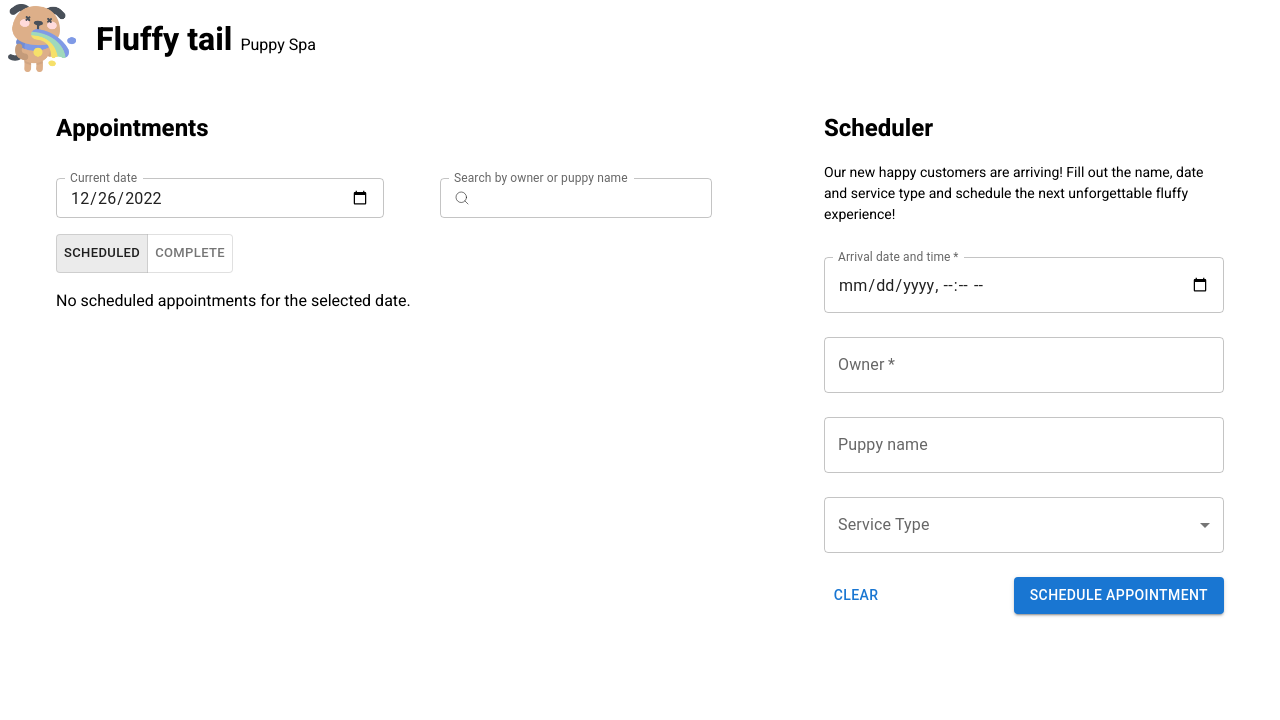
Test: successfully submit scheduled appointment
The image size is (1280, 720).
Type "2022-12-26T16:55" into the field with placeholder "Arrival date and time" at point(1024, 285), box [824,257,1224,313]
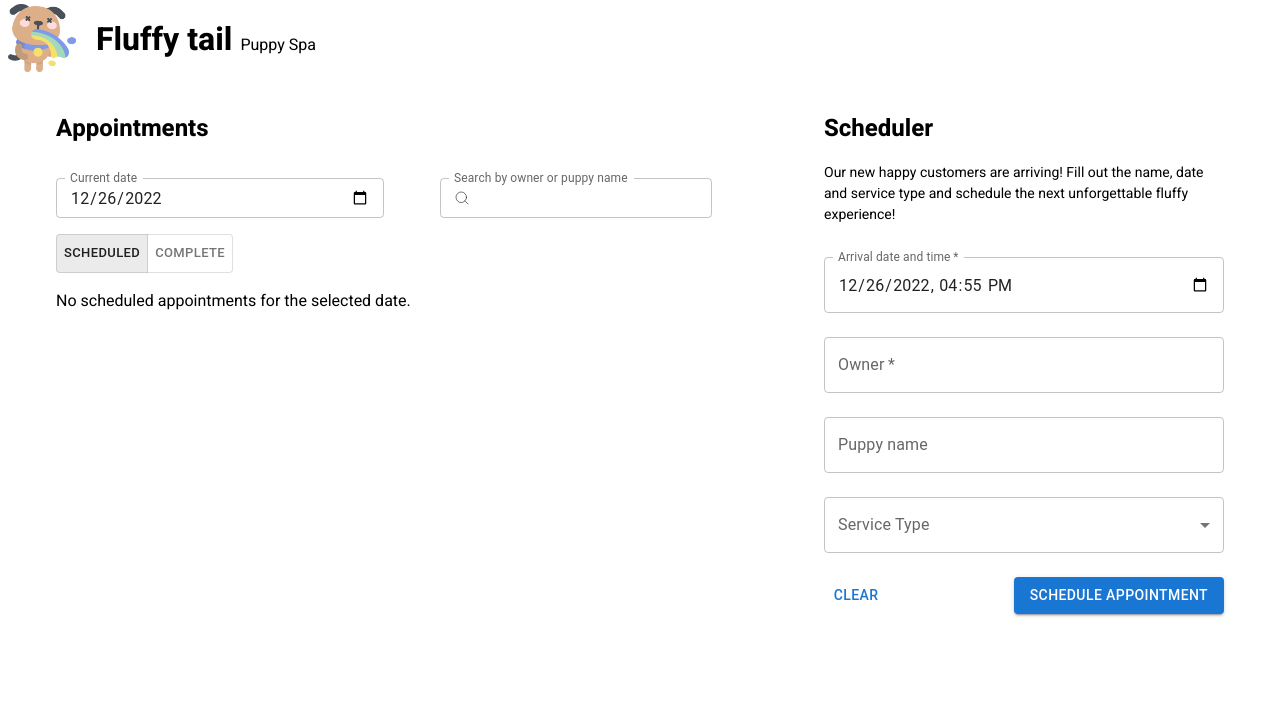
Type "Dusan" into the field with placeholder "Owner" at point(1024, 365), box [824,337,1224,393]
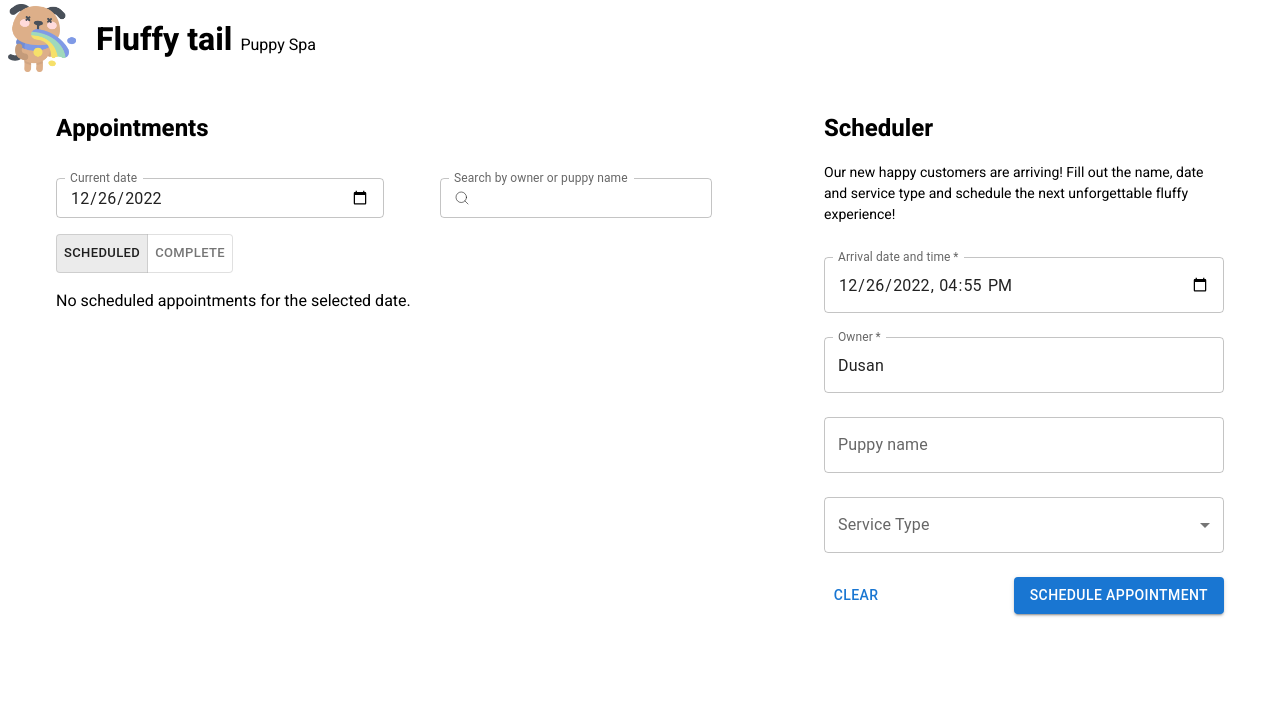
Click the button with test id "scheduler__submit-button" at point(1119, 595), box [1014,577,1224,614]
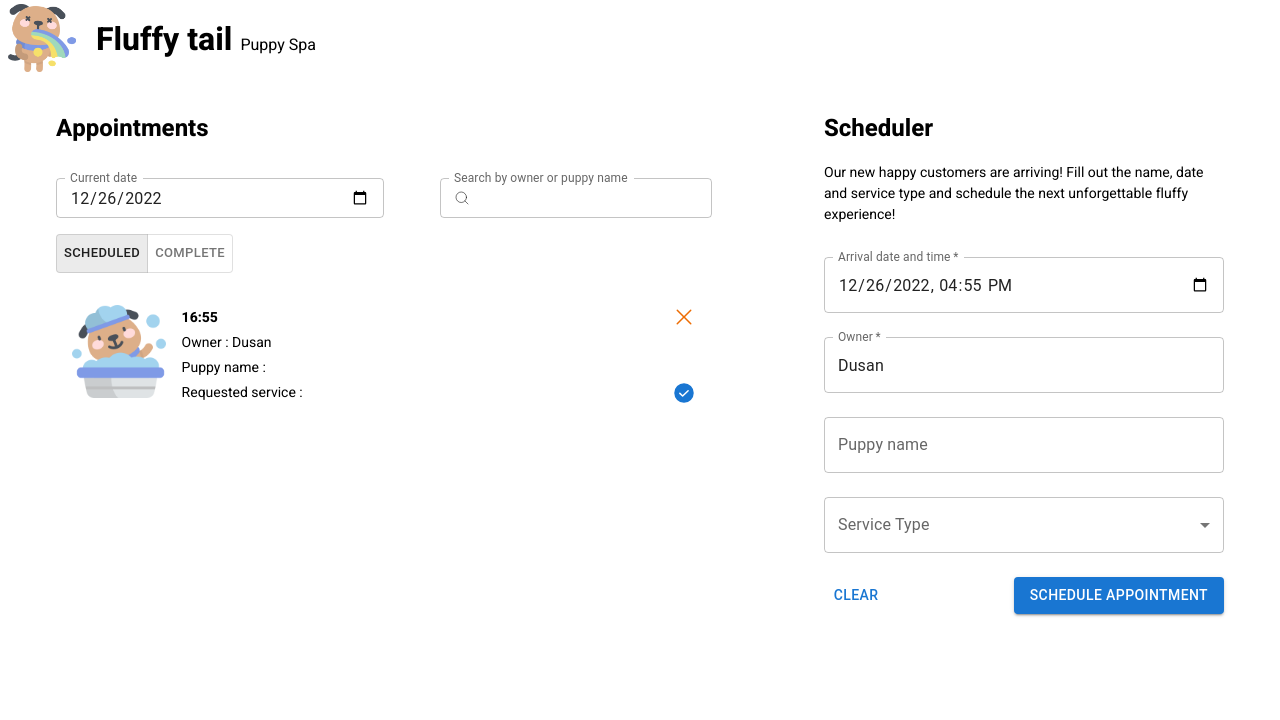
Result: the text "16:55" is shown at [182,307,218,328]
